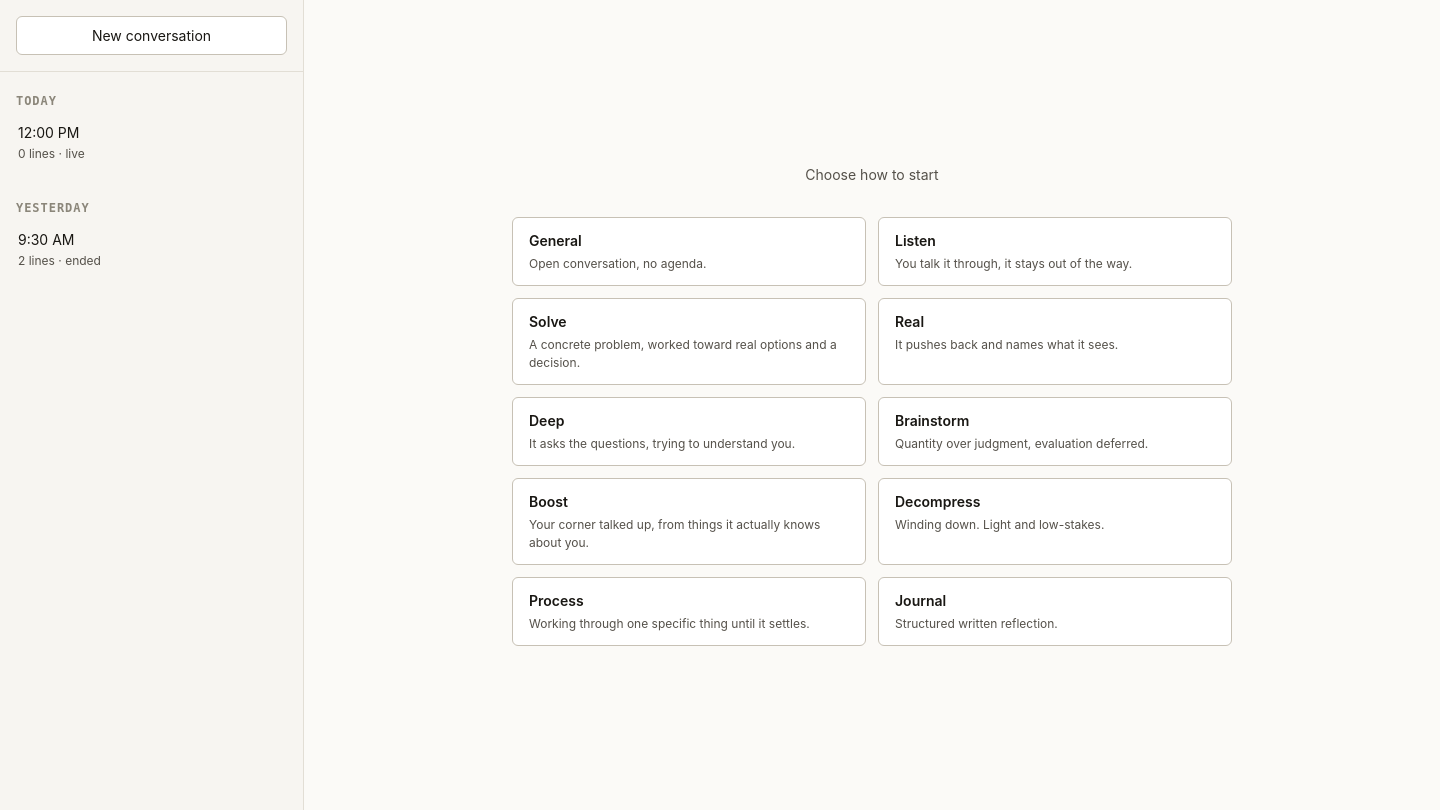
Conversations › shows only the ended notice for a read-only session: no textarea, no Send, no End conversation, no mode control
Click the button "general Open conversation, no agenda.": click(555, 240) [512,217,866,286]
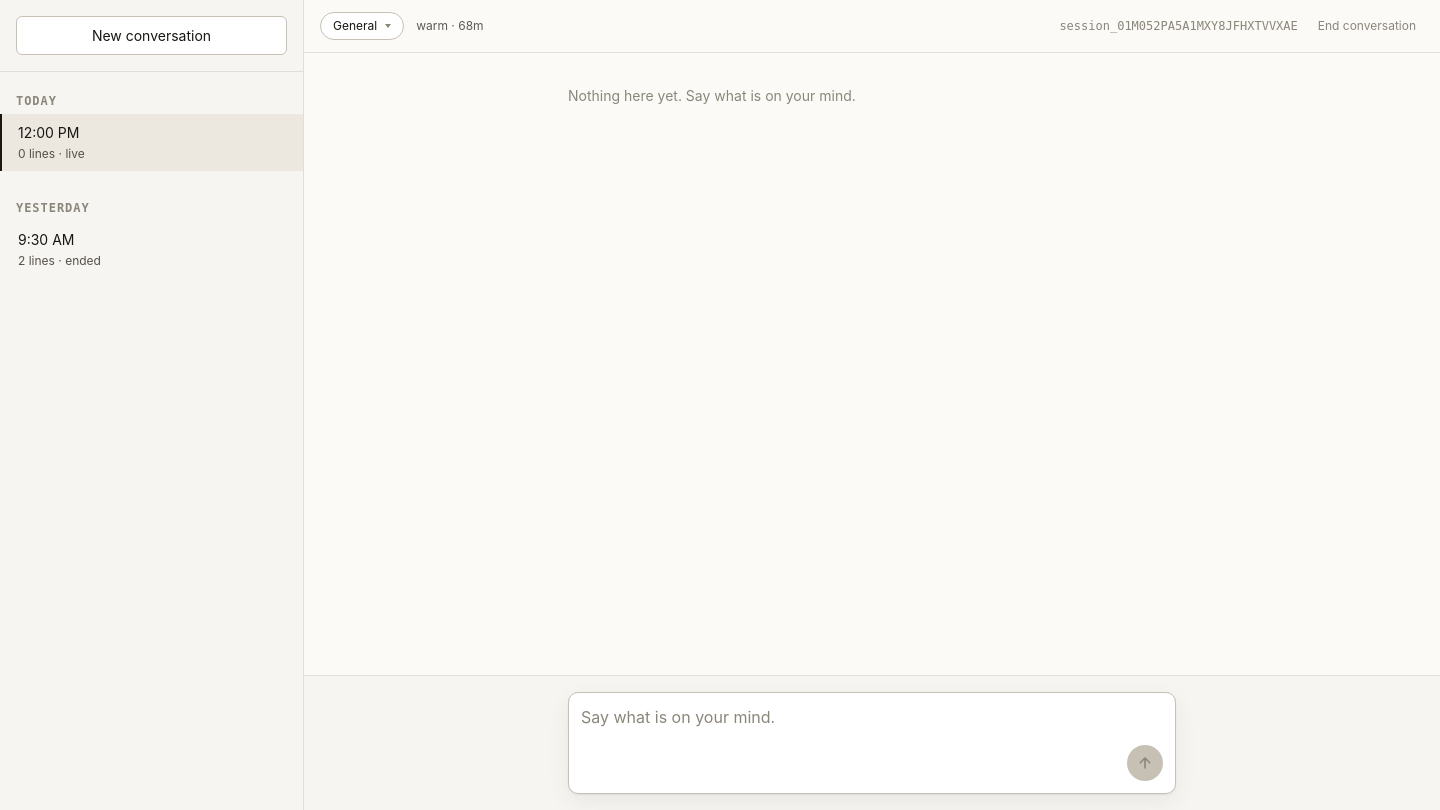
Click the button titled "session_01M052PA5A1MXY8JFHXTVVXAF": click(46, 240) [0,221,303,278]
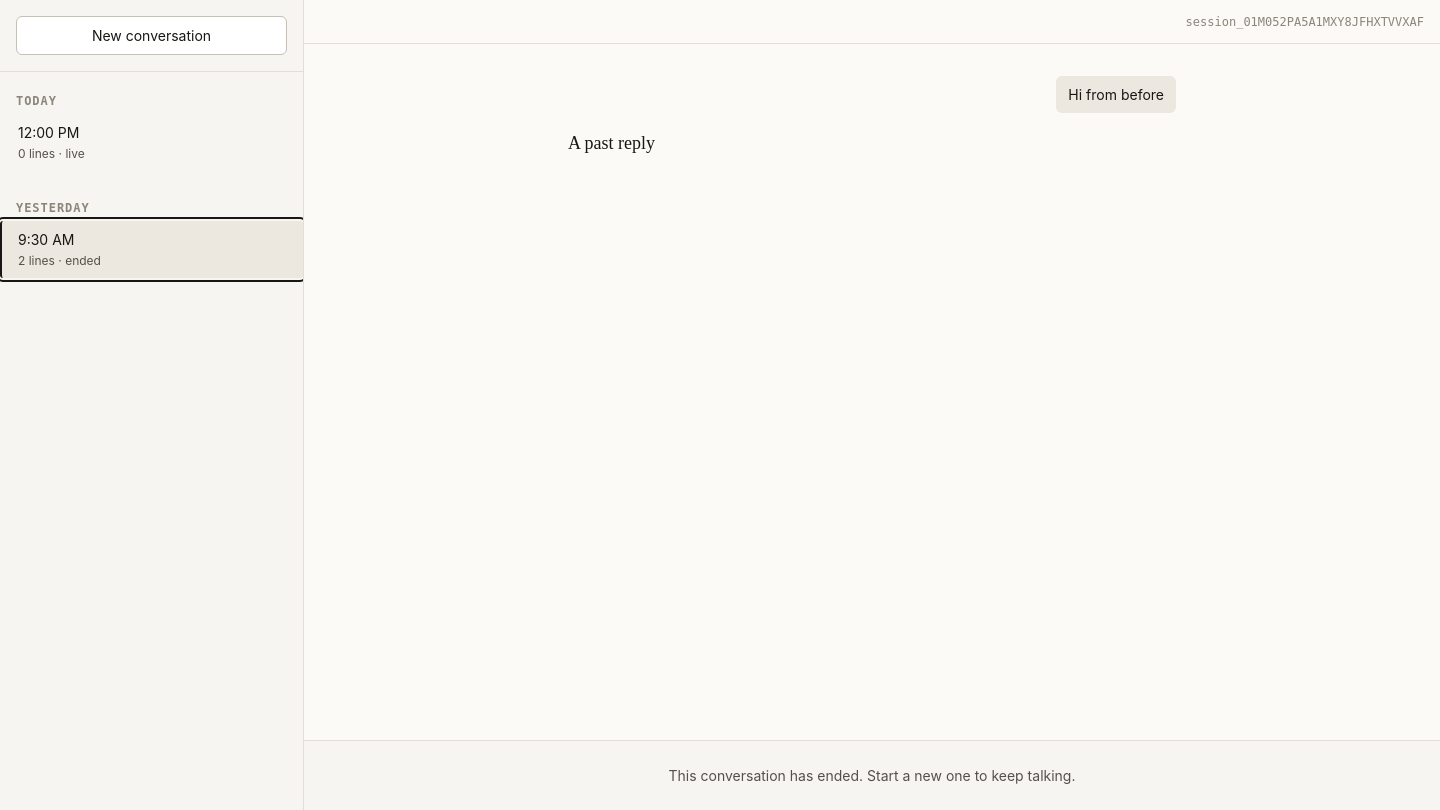
Expected: the text "A past reply" is shown, [567,132,655,153]
Expected: the text "This conversation has ended. Start a new one to keep talking." is shown, [668,767,1076,784]
Expected: the button "Send" is gone
